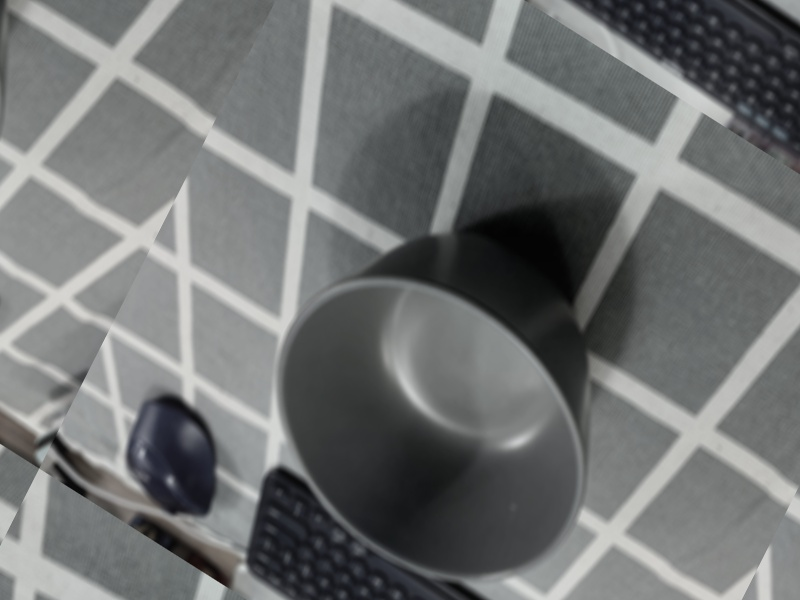bowl_big: (216, 149, 672, 599)
